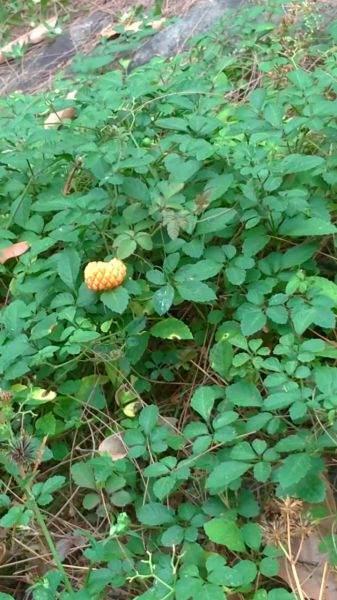eggs: (80, 248, 130, 296)
